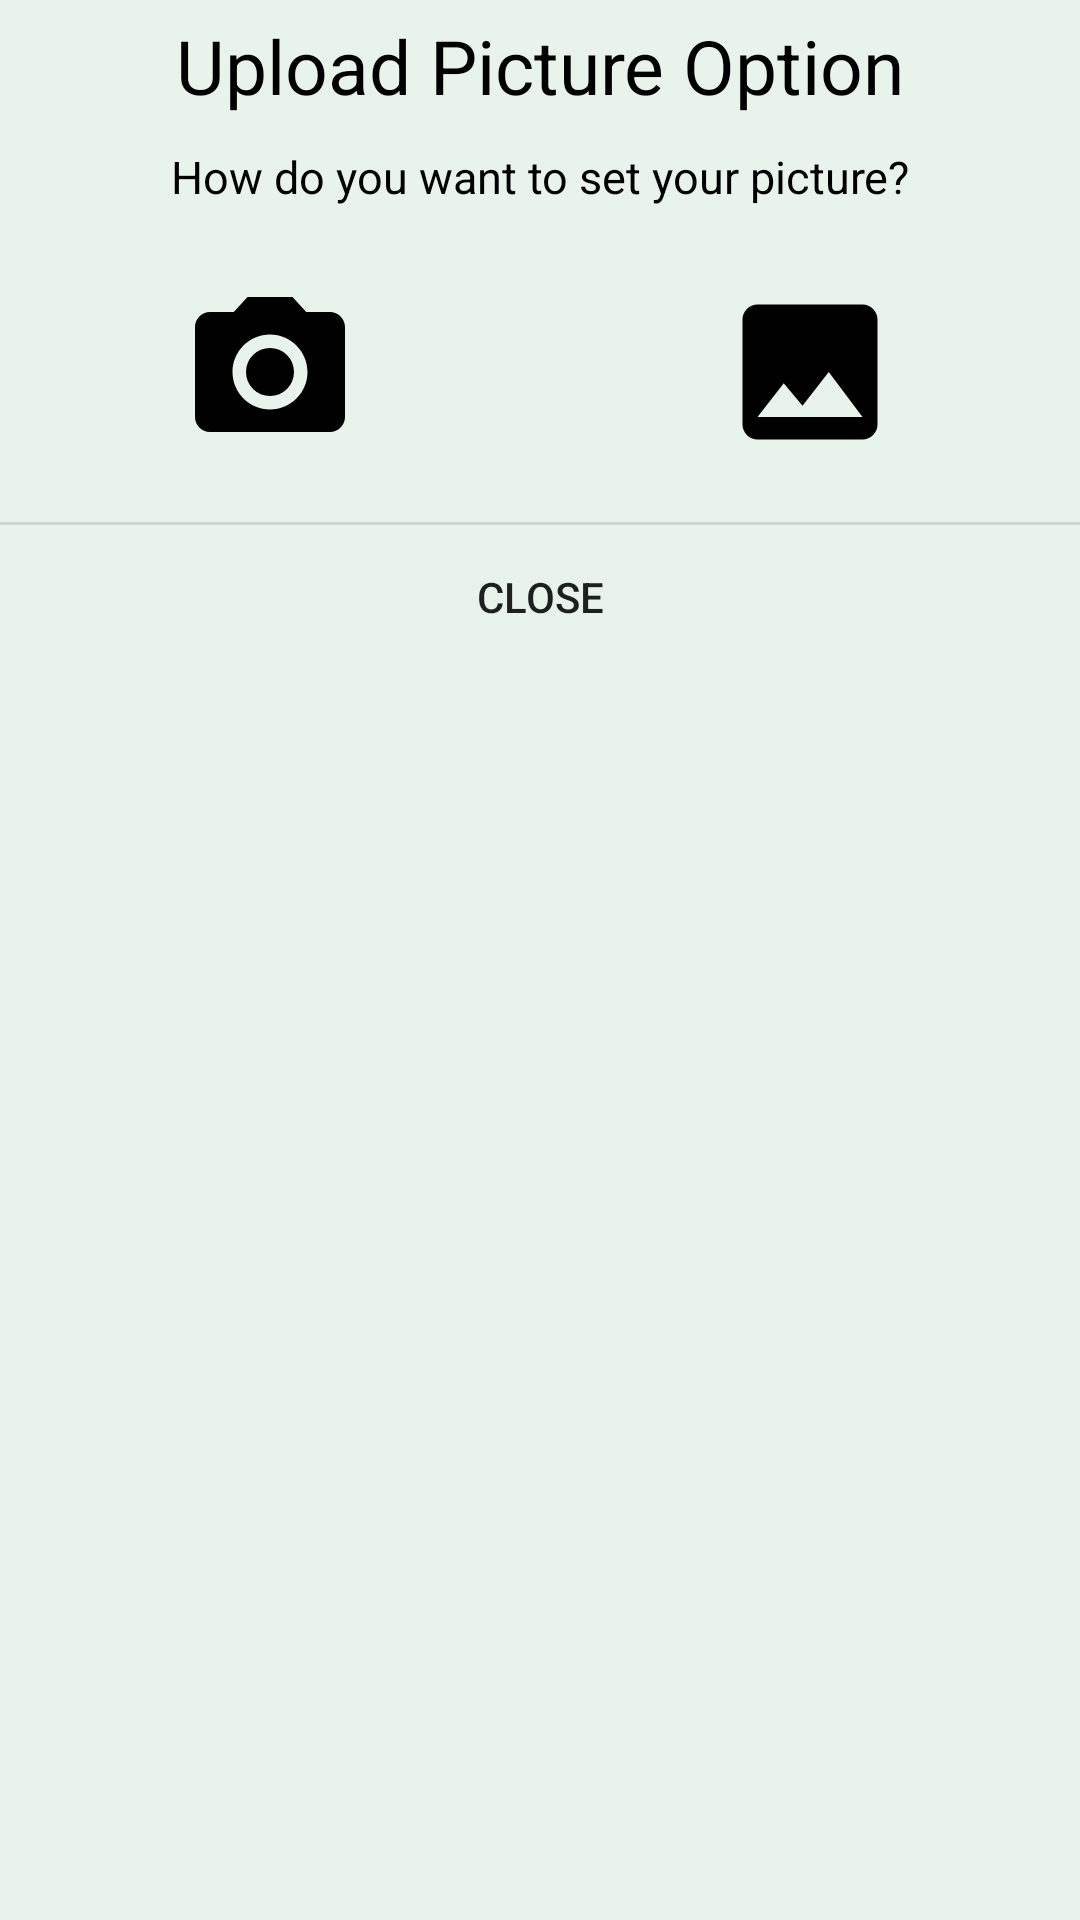

Icons on this 1080×1920 Android screen, each with its box as (x1, y1, x2, y2):
camera: (195, 297, 345, 432)
gallery: (742, 304, 878, 440)
